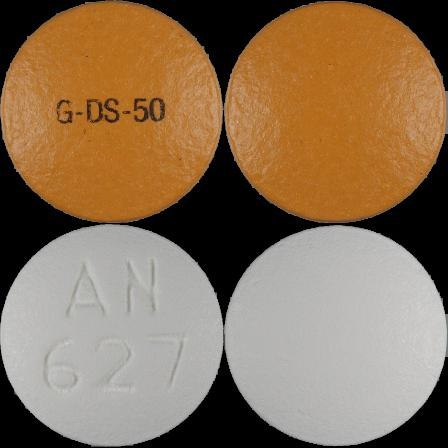68788-9185: (0, 0, 224, 224)
